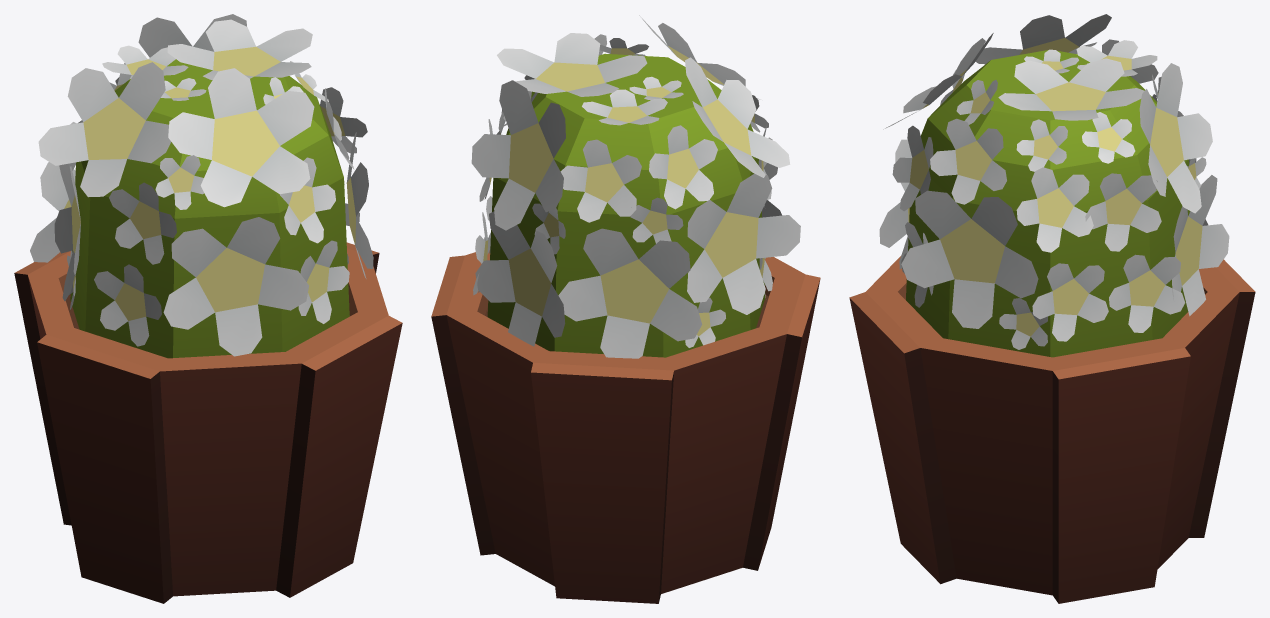
File: farmpack2023flowerpotwhiteflowers.fbx
3 views of the same model, side by side, from view 1: azimuth 30°, elevation 25°; view 2: azimuth 150°, elevation 25°; view 3: azimuth 270°, elevation 25° (orthographic).
Parts seen in each view (by area): view 1: Cylinder.408; view 2: Cylinder.408; view 3: Cylinder.408.
Part boxes in pixels (left/top/right/bottom): Cylinder.408: left=14, top=14, right=402, bottom=603; Cylinder.408: left=431, top=15, right=820, bottom=603; Cylinder.408: left=849, top=14, right=1255, bottom=603.
Bounding box in the file's own units: 1.11 × 1.1 × 1.51.
